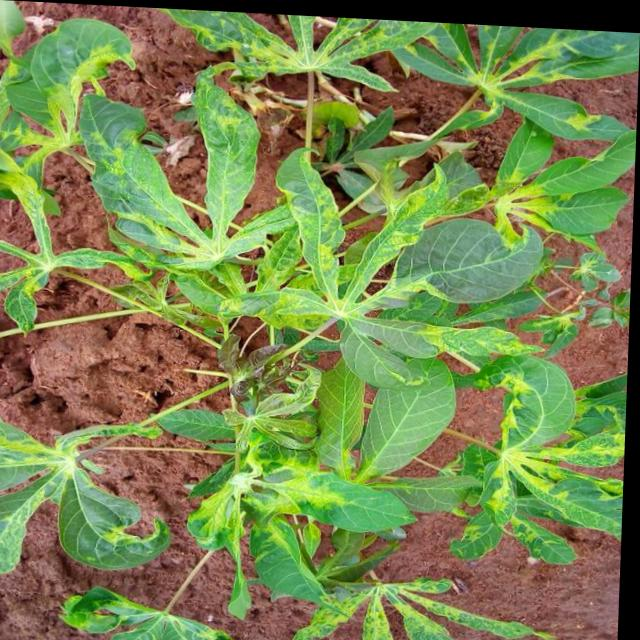Mosaico: (72, 65, 290, 290), (231, 185, 459, 394), (177, 445, 414, 592), (479, 355, 626, 554), (408, 11, 622, 147), (0, 406, 157, 576), (173, 16, 407, 120), (481, 121, 597, 255), (0, 163, 93, 326), (196, 370, 336, 457)
